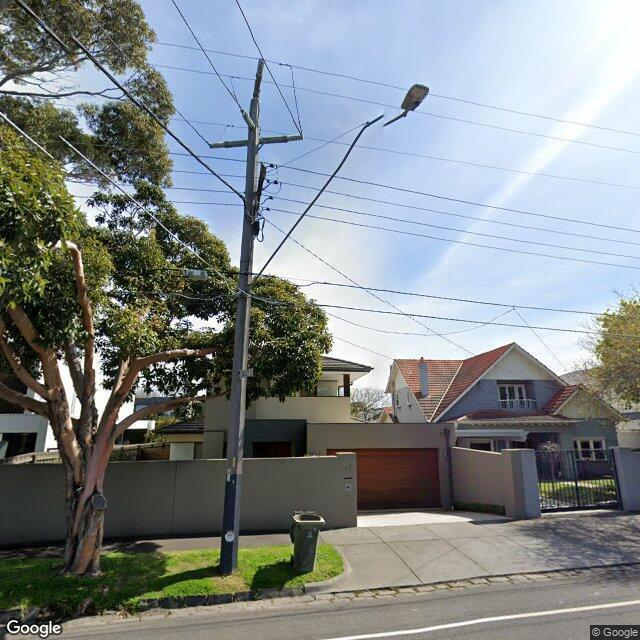HV-transmission: (210, 57, 304, 149)
crossarm: (223, 136, 287, 147), (257, 163, 267, 210), (253, 80, 260, 102)
streetlight: (247, 84, 429, 291)
timber-pole: (220, 98, 259, 574)
